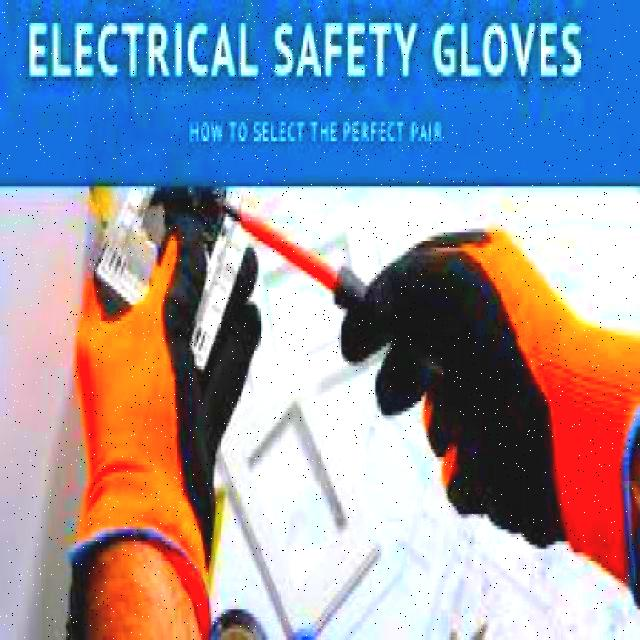Gloves: (343, 216, 639, 586), (72, 208, 274, 588)
